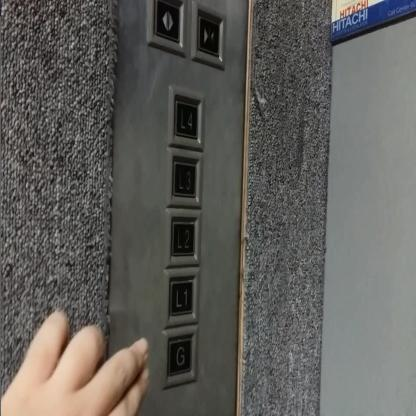G: (162, 326, 198, 389)
L1: (165, 266, 200, 327)
L2: (165, 206, 201, 268)
L3: (165, 146, 203, 211)
L4: (167, 83, 206, 150)
close: (189, 0, 227, 70)
open: (147, 1, 186, 57)
